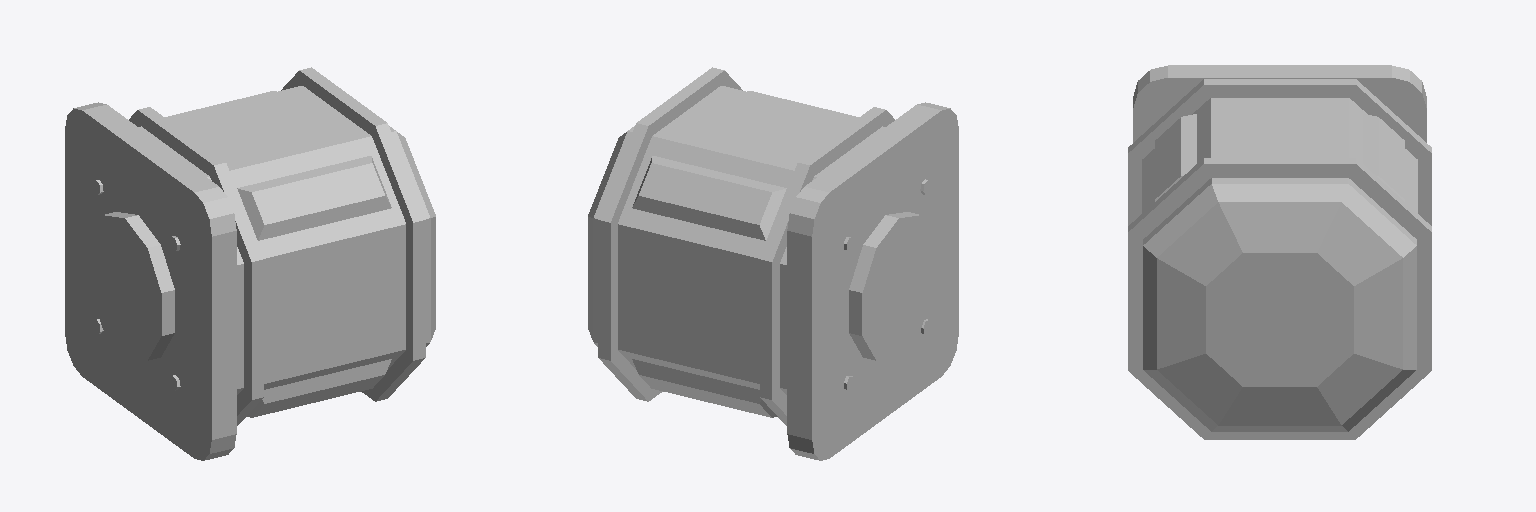
File: stepper_motor_mini.obj
The picture shows the model from 3 angles: view 1: azimuth 30°, elevation 25°; view 2: azimuth 150°, elevation 25°; view 3: azimuth 270°, elevation 25°; orthographic projection.
Visible parts, largest first — view 1: Cube_Cube.001; view 2: Cube_Cube.001; view 3: Cube_Cube.001.
Boxes of the visible parts, <box> form: Cube_Cube.001: <box>65,67,435,460</box>; Cube_Cube.001: <box>588,67,958,460</box>; Cube_Cube.001: <box>1128,65,1431,439</box>.
Size of the model in its own units: 0.992 by 0.9976 by 0.9976.